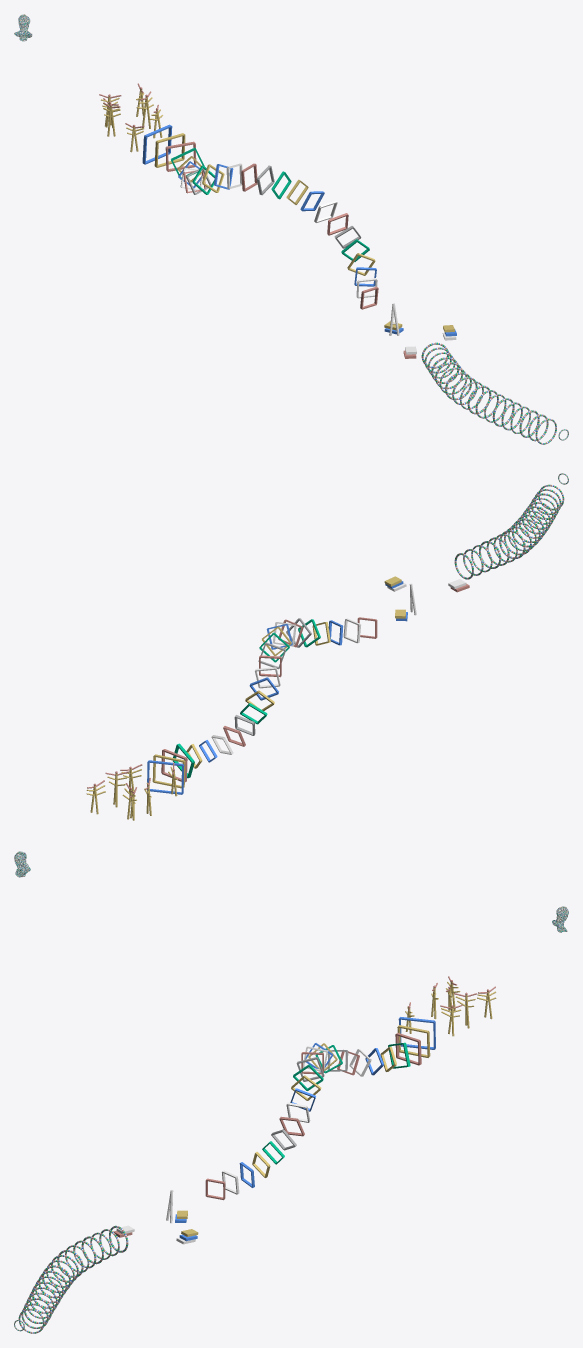
Rendered from about-v2-track-reference.glb.
3 renders of one model, top to bottom at view 1: azimuth 30°, elevation 25°; view 2: azimuth 150°, elevation 25°; view 3: azimuth 330°, elevation 25°, orthographic.
Bounding box in the file's own units: 30.08 × 27.68 × 367.
